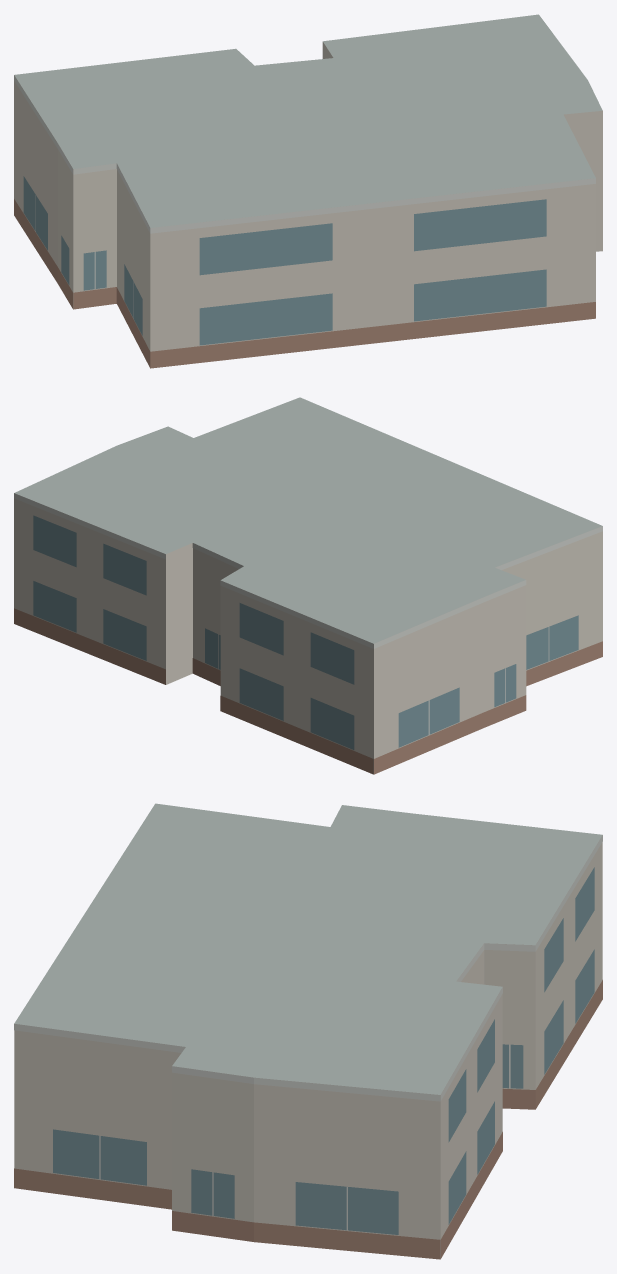
Rendered from survey-upis-32469602.glb.
3 views of the same model, one above another, from view 1: azimuth 30°, elevation 25°; view 2: azimuth 150°, elevation 25°; view 3: azimuth 270°, elevation 25° (orthographic). The views are drawn at different scales.
Parts seen in each view (by area): view 1: survey-upis-32469602.tmp; view 2: survey-upis-32469602.tmp; view 3: survey-upis-32469602.tmp.
Part boxes in pixels (box(x1,y1,x2,y2)): survey-upis-32469602.tmp: box(14, 14, 602, 368); survey-upis-32469602.tmp: box(14, 397, 602, 774); survey-upis-32469602.tmp: box(14, 803, 602, 1259).
Size of the model in its own units: 23.21 by 6.1 by 19.8.
